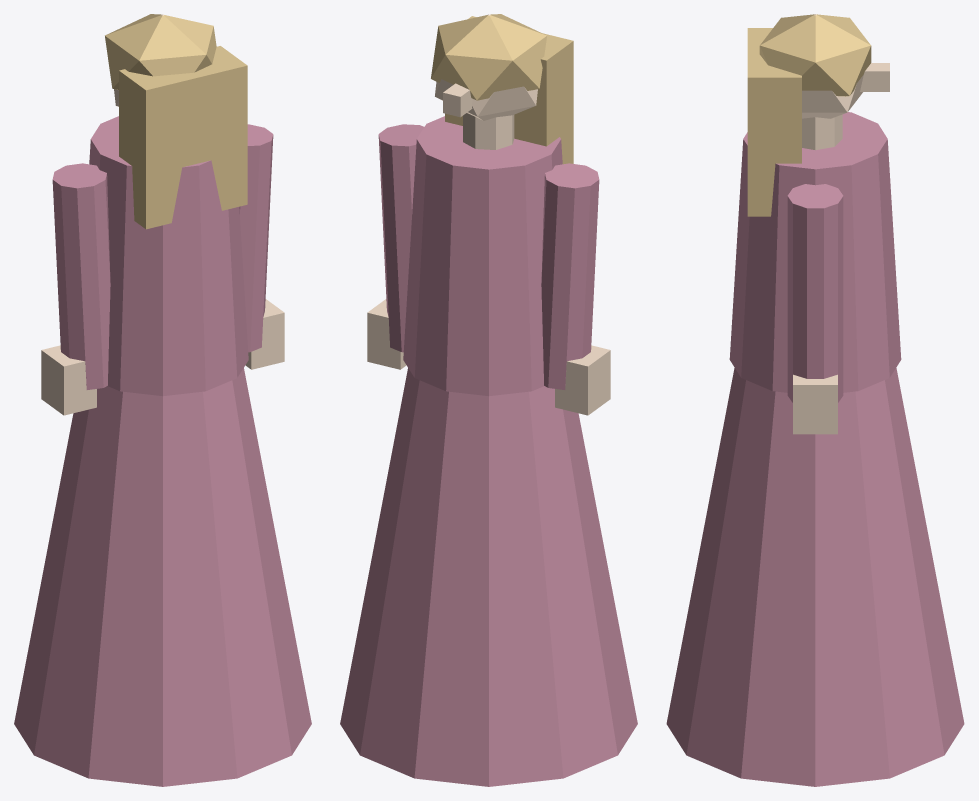
File: child_girl.glb
The picture shows the model from 3 angles, left to right: view 1: azimuth 30°, elevation 25°; view 2: azimuth 150°, elevation 25°; view 3: azimuth 270°, elevation 25°; orthographic projection.
Parts seen in each view (by area): view 1: child_girl; view 2: child_girl; view 3: child_girl.
Part boxes in pixels (x1,y1,x2,y2): child_girl: [14, 14, 311, 786]; child_girl: [340, 14, 637, 786]; child_girl: [666, 14, 964, 786].
Size of the model in its own units: 0.396 by 1.04 by 0.396.
